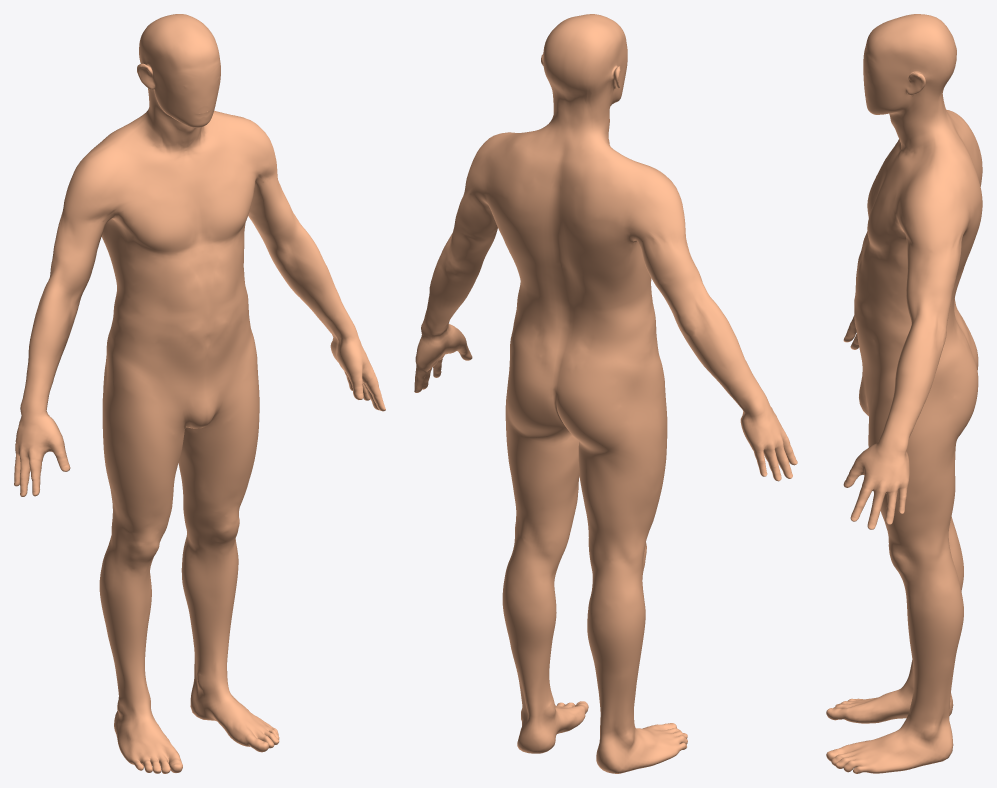
3 views of the same model, side by side, from view 1: azimuth 30°, elevation 25°; view 2: azimuth 150°, elevation 25°; view 3: azimuth 270°, elevation 25° (orthographic). The views are drawn at different scales.
Visible parts, largest first — view 1: body; view 2: body; view 3: body.
Part boxes in pixels (bbox=[...]): body: bbox=[14, 14, 385, 773]; body: bbox=[414, 14, 797, 773]; body: bbox=[826, 14, 982, 773].
Size of the model in its own units: 88.65 by 168 by 32.95.
